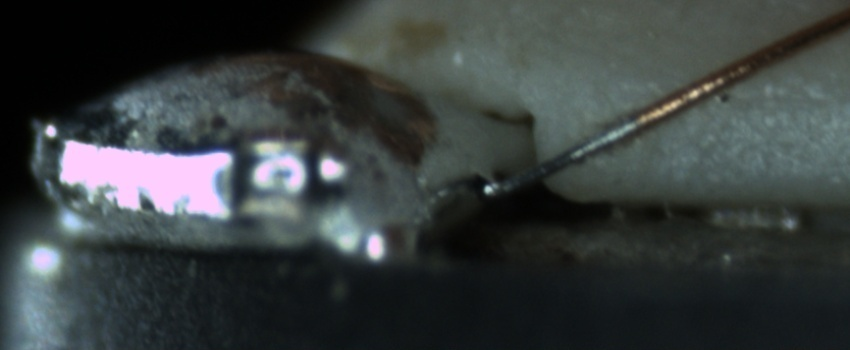DL: (674, 67, 847, 129)
TS: (475, 118, 633, 199)
TTCW: (473, 85, 677, 205)
